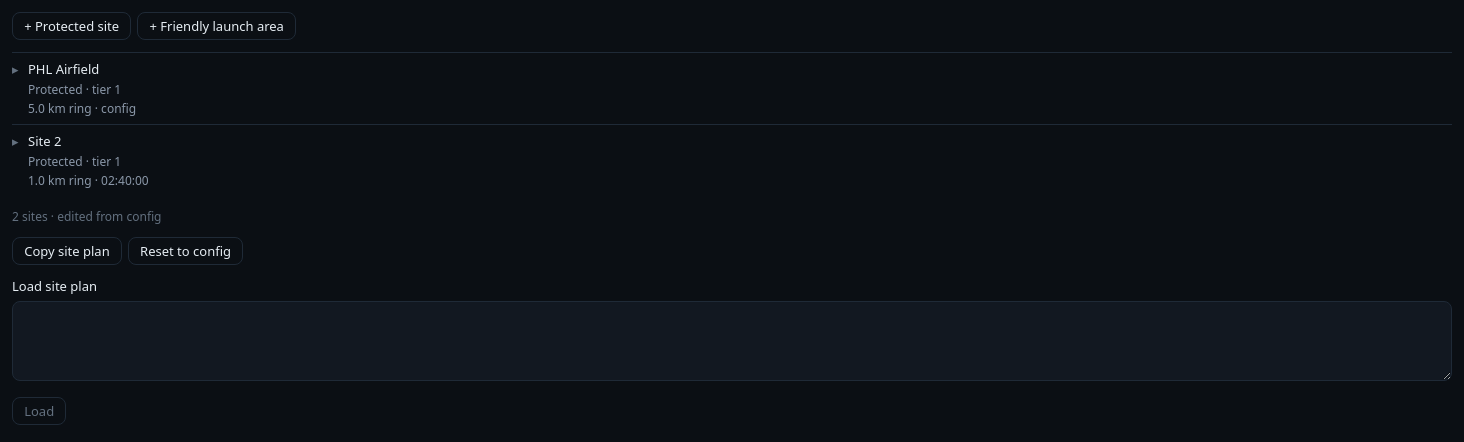
Scenario: SitesPanel — friendly launch areas and the site plan (08b) › copies the plan with the handoff’s mechanics from its own element, leaving the Load field alone
Type "the operator’s draft" into the text box labelled "Load site plan".
click(732, 341); type("the operator’s draft")  # box [12,301,1452,381]
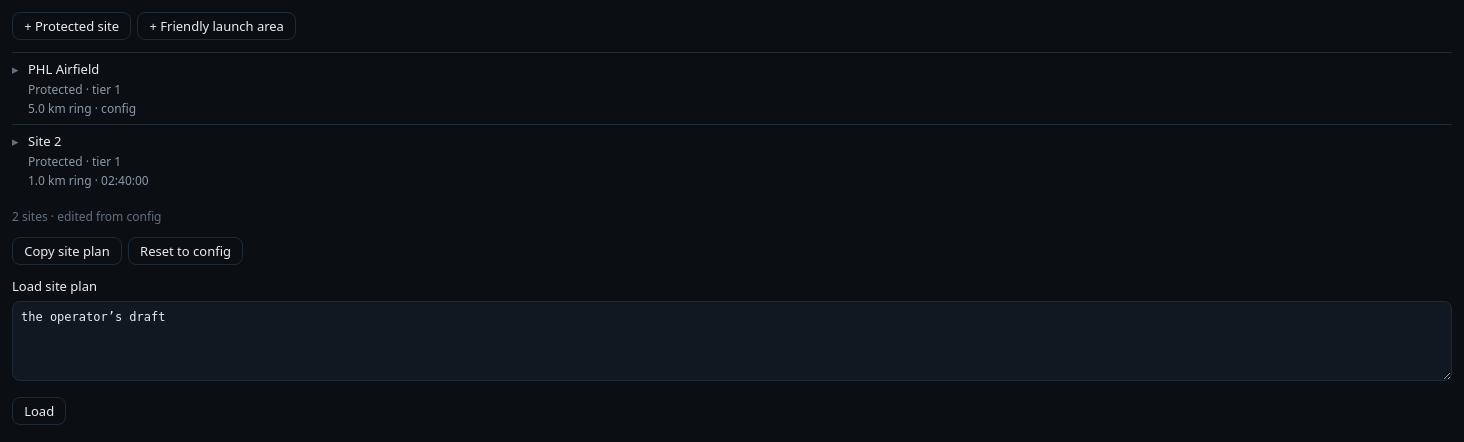
Click the button "Copy site plan".
click(67, 251)  # box [12,237,122,265]
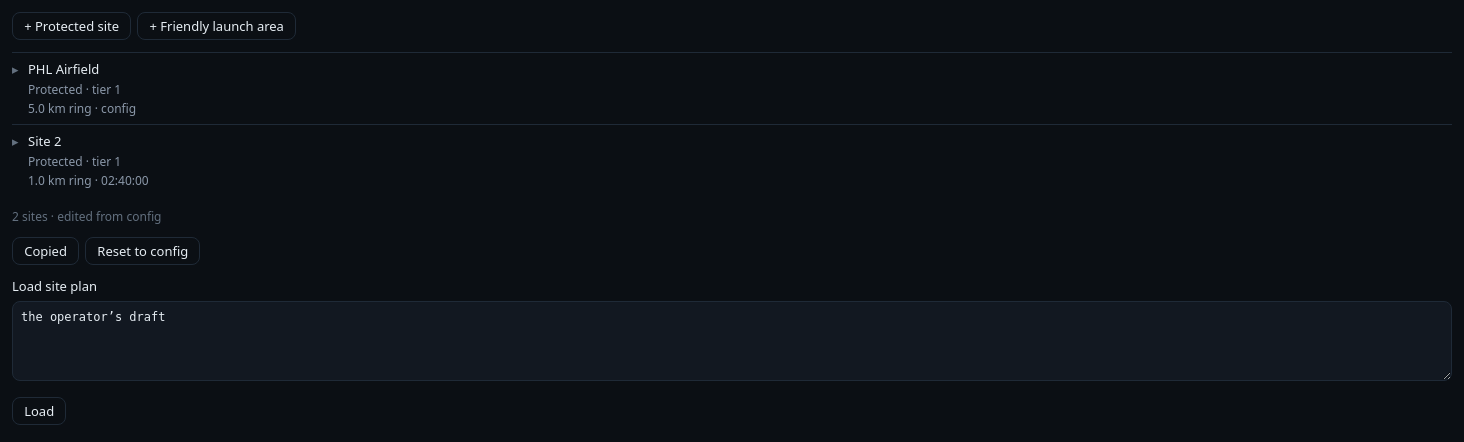
Expected: the button "Copied" is shown, [12,237,79,265]
